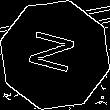N_E: (25, 29, 85, 81)
